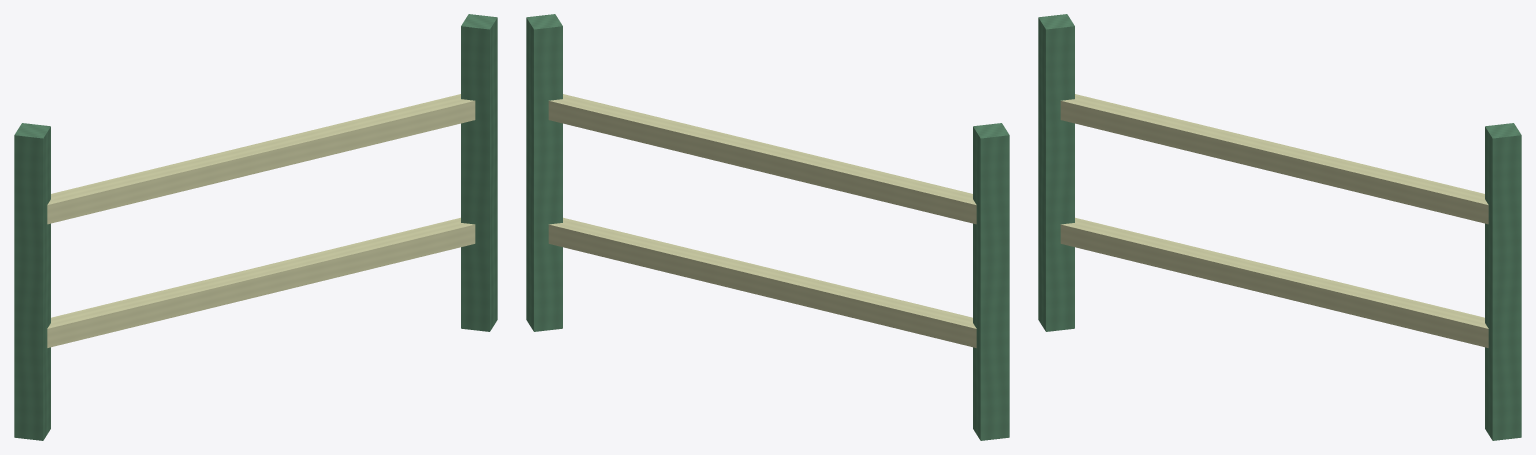
Rendered from atlas100-solarpunk-util04.lod2.glb.
3 renders of one model, left to right at view 1: azimuth 30°, elevation 25°; view 2: azimuth 150°, elevation 25°; view 3: azimuth 330°, elevation 25°, orthographic.
Parts seen in each view (by area): view 1: atlas100-solarpunk-util04:part-004, atlas100-solarpunk-util04:part-005, atlas100-solarpunk-util04:part-000, atlas100-solarpunk-util04:part-002; view 2: atlas100-solarpunk-util04:part-004, atlas100-solarpunk-util04:part-005, atlas100-solarpunk-util04:part-000, atlas100-solarpunk-util04:part-002; view 3: atlas100-solarpunk-util04:part-004, atlas100-solarpunk-util04:part-005, atlas100-solarpunk-util04:part-002, atlas100-solarpunk-util04:part-000.
Part boxes in pixels (x1,y1,x2,y2): atlas100-solarpunk-util04:part-004: (47,217,475,347); atlas100-solarpunk-util04:part-005: (47,94,475,224); atlas100-solarpunk-util04:part-000: (14,123,50,440); atlas100-solarpunk-util04:part-002: (461,14,497,331); atlas100-solarpunk-util04:part-004: (548,217,976,347); atlas100-solarpunk-util04:part-005: (548,94,976,224); atlas100-solarpunk-util04:part-000: (973,123,1009,440); atlas100-solarpunk-util04:part-002: (526,14,562,331); atlas100-solarpunk-util04:part-004: (1060,217,1488,347); atlas100-solarpunk-util04:part-005: (1060,94,1488,224); atlas100-solarpunk-util04:part-002: (1485,123,1521,440); atlas100-solarpunk-util04:part-000: (1038,14,1074,331).
Bounding box in the file's own units: 1.97 × 1.18 × 0.1497.
2 materials, 2 textured.
